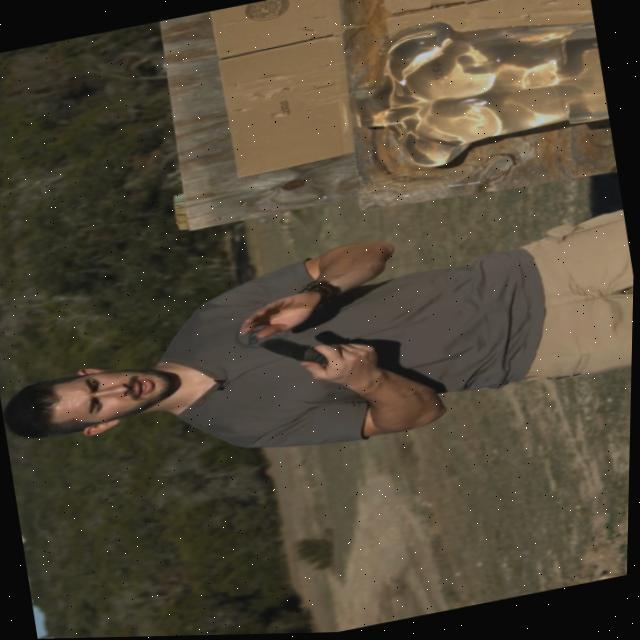knife: (258, 328, 326, 375)
